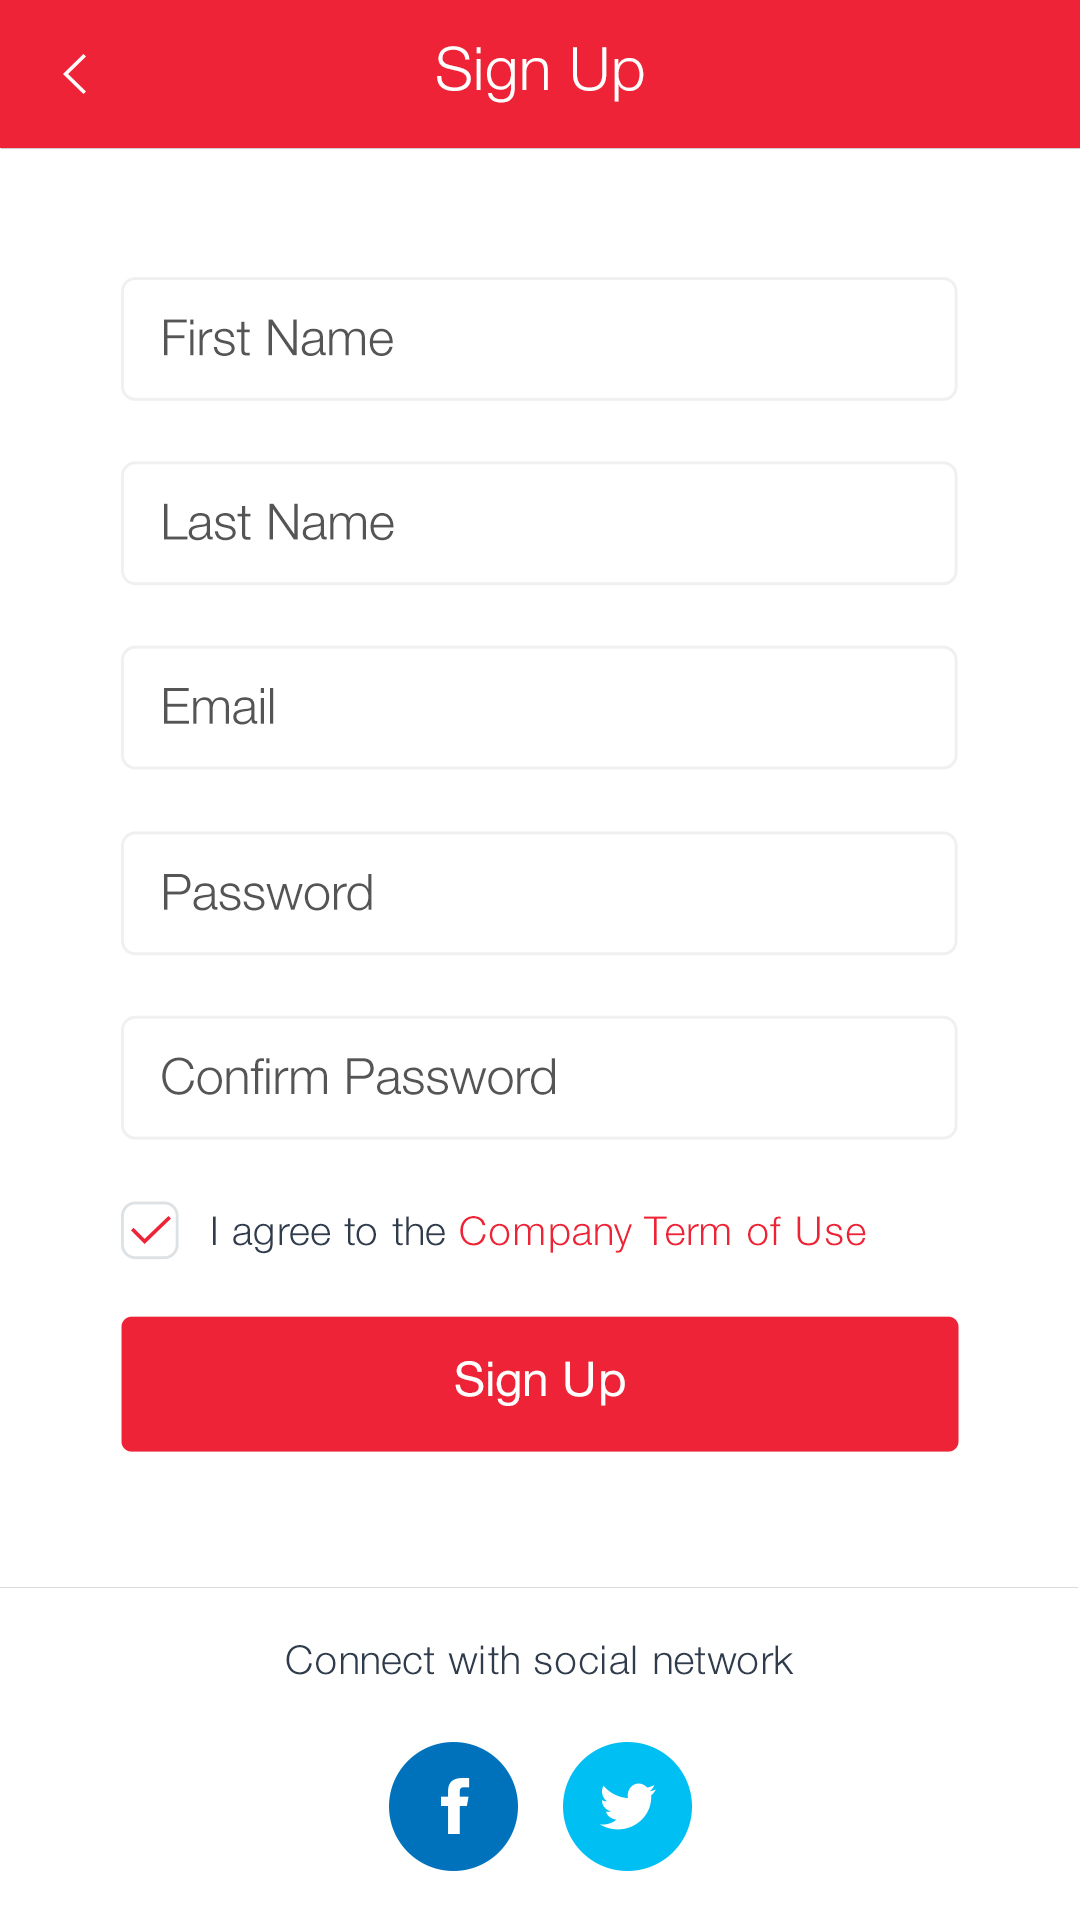CheckedTextView: (121, 1201, 868, 1261)
EditText: (121, 646, 959, 771), (121, 277, 957, 402), (121, 462, 957, 587), (121, 831, 957, 956), (121, 1015, 959, 1139)
Icon: (389, 1741, 520, 1873), (563, 1742, 694, 1873), (63, 54, 88, 96)
Text: (211, 1215, 866, 1255), (287, 1644, 794, 1676), (162, 1058, 556, 1096), (436, 46, 645, 105), (164, 319, 394, 357), (164, 502, 394, 541), (164, 874, 373, 913), (164, 687, 276, 725)
TextButton: (121, 1316, 960, 1453)
